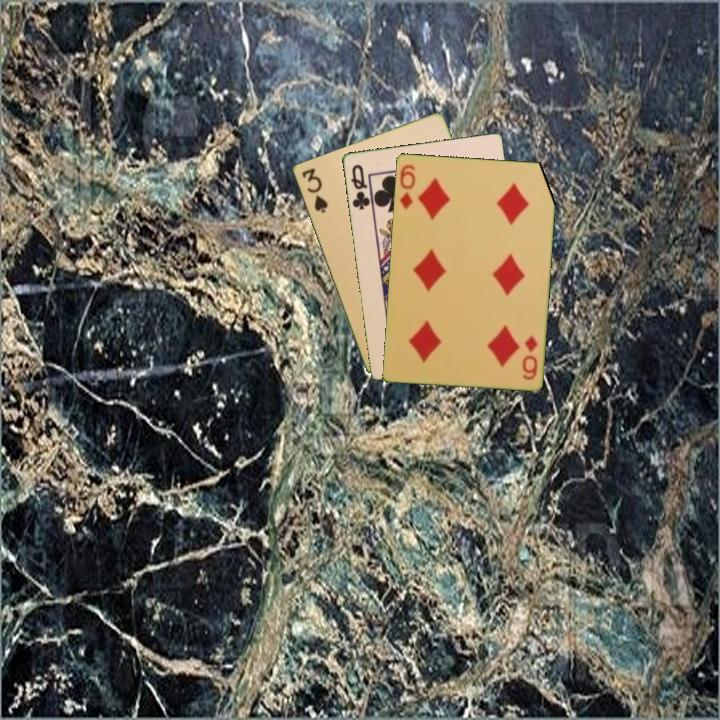3s: (298, 164, 330, 216)
6d: (396, 161, 418, 212), (518, 331, 540, 382)
Qc: (347, 161, 373, 212)
